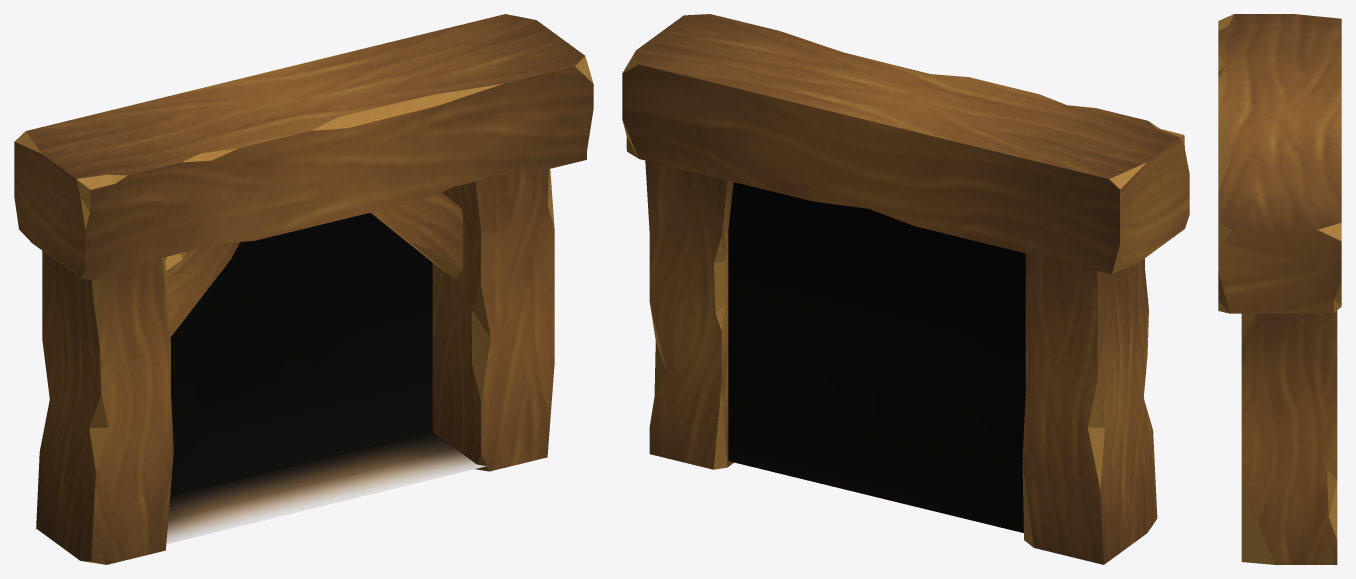
The model's file is DungeonEntrance_HD.fbx.
3 views of the same model, side by side, from view 1: azimuth 30°, elevation 25°; view 2: azimuth 150°, elevation 25°; view 3: azimuth 270°, elevation 25° (orthographic). The views are drawn at different scales.
Visible parts, largest first — view 1: polySurface2, polySurface1; view 2: polySurface2; view 3: polySurface2.
Boxes of the visible parts, <box> form: polySurface2: <box>14,14,593,564</box>; polySurface1: <box>166,432,486,544</box>; polySurface2: <box>622,14,1189,564</box>; polySurface2: <box>1218,14,1341,564</box>.
Bounding box in the file's own units: 2.65 × 1.98 × 0.6412.
